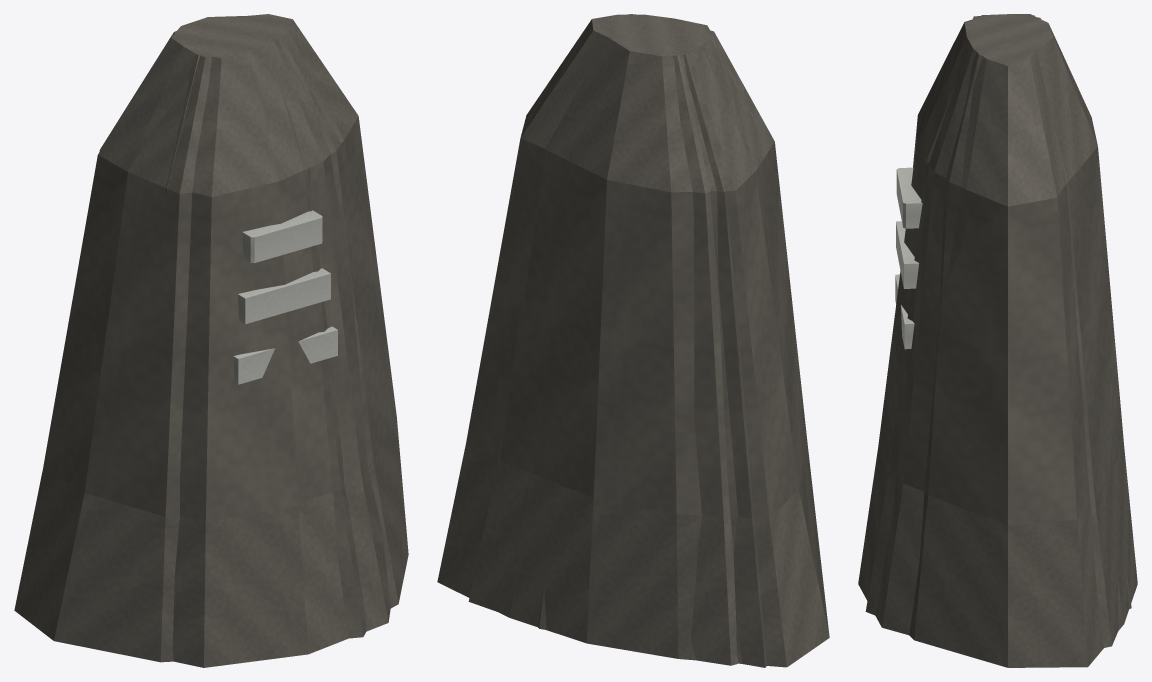
Rendered from Waystone.fbx.
The picture shows the model from 3 angles, left to right: view 1: azimuth 30°, elevation 25°; view 2: azimuth 150°, elevation 25°; view 3: azimuth 270°, elevation 25°; orthographic projection. The views are drawn at different scales.
Visible parts, largest first — view 1: WaystoneDetail0, WaystoneDetail1, WaystoneDetail2; view 2: WaystoneDetail0, WaystoneDetail1, WaystoneDetail2; view 3: WaystoneDetail0, WaystoneDetail1, WaystoneDetail2.
Part boxes in pixels (box(x1,y1,x2,y2)): WaystoneDetail0: box(14, 14, 390, 667); WaystoneDetail1: box(54, 16, 408, 662); WaystoneDetail2: box(99, 17, 366, 638); WaystoneDetail0: box(437, 14, 829, 667); WaystoneDetail1: box(468, 14, 829, 665); WaystoneDetail2: box(538, 17, 770, 667); WaystoneDetail0: box(858, 14, 1137, 667); WaystoneDetail1: box(895, 14, 1124, 667); WaystoneDetail2: box(865, 15, 1131, 615).
Bounding box in the file's own units: 108 × 164 × 76.
Materials: 1 (1 with a texture image).
